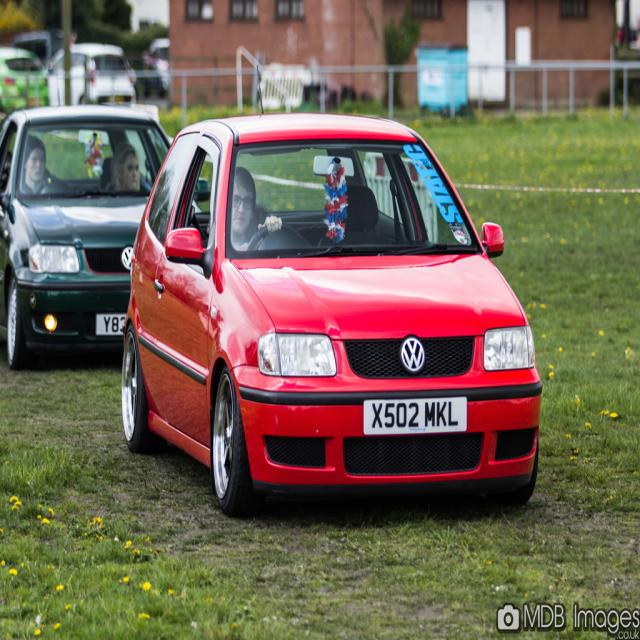car: (104, 112, 542, 517)
